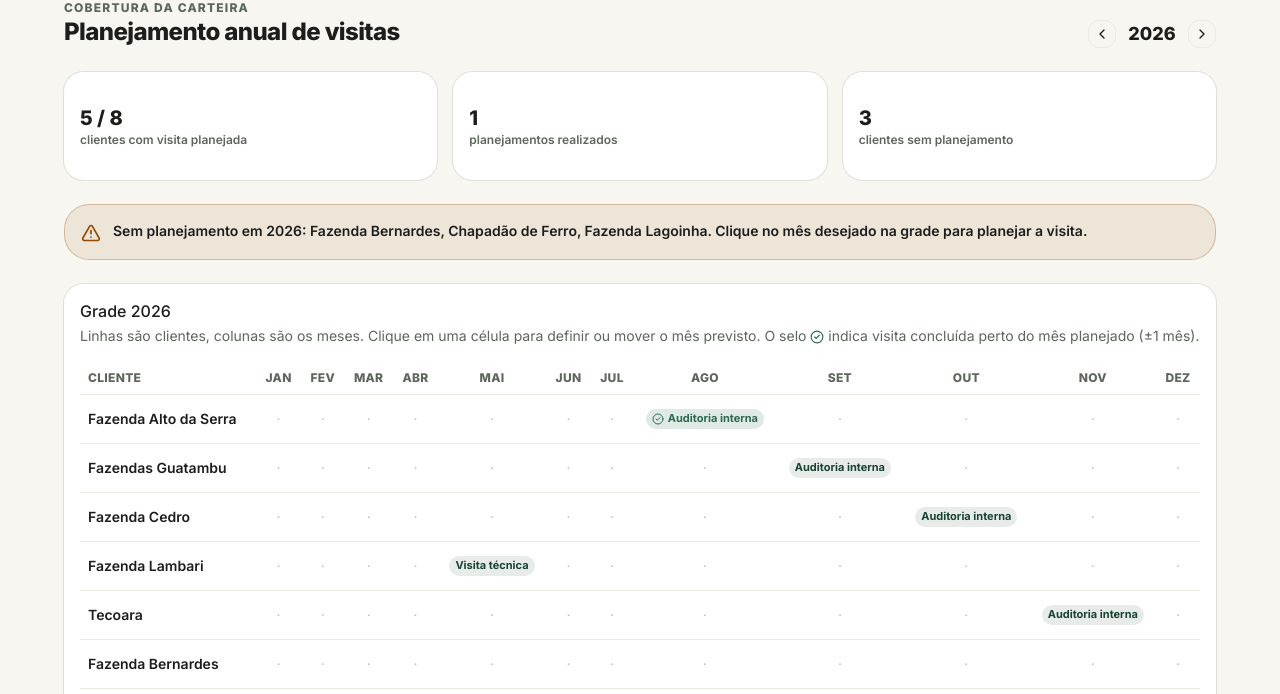
Test: GradePlanejamento › permite alterar um planejamento existente
Click the button with aria-label "Fazendas Guatambu — setembro" at (840, 468), box [781,448,899,488]
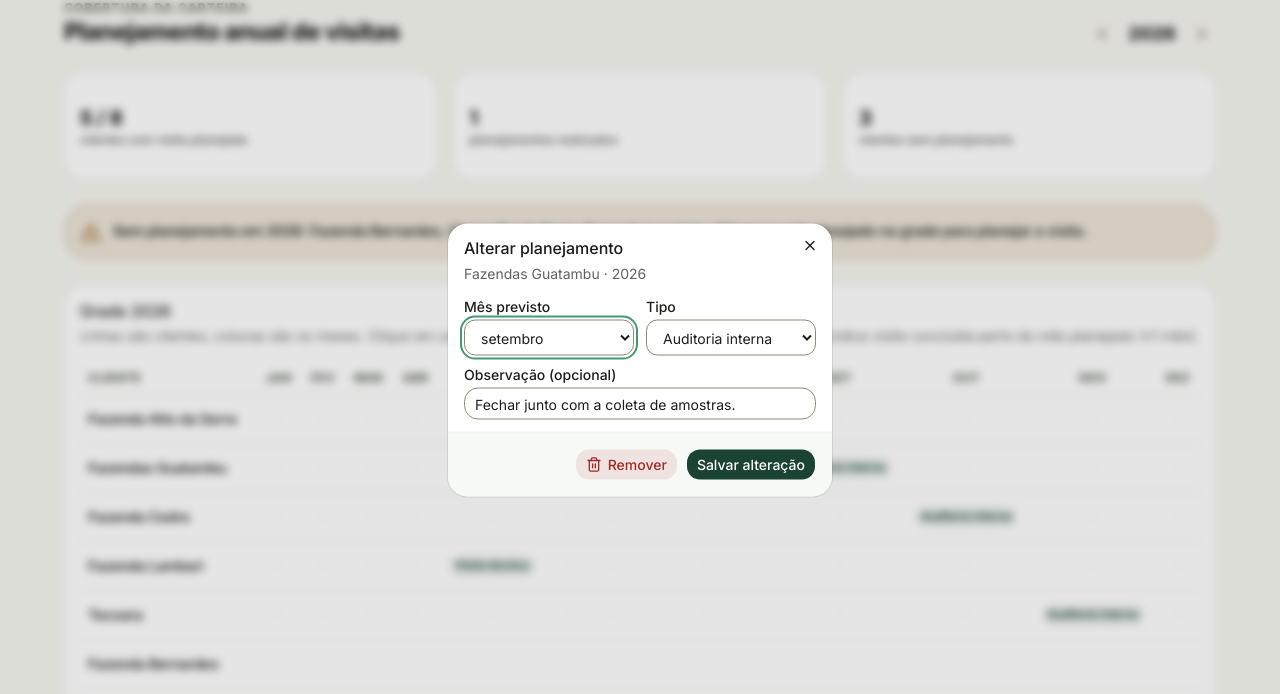
Check: the heading "Alterar planejamento" is shown, box [464,238,623,258]
Check: the button "Remover" is shown, box [575,448,678,480]
